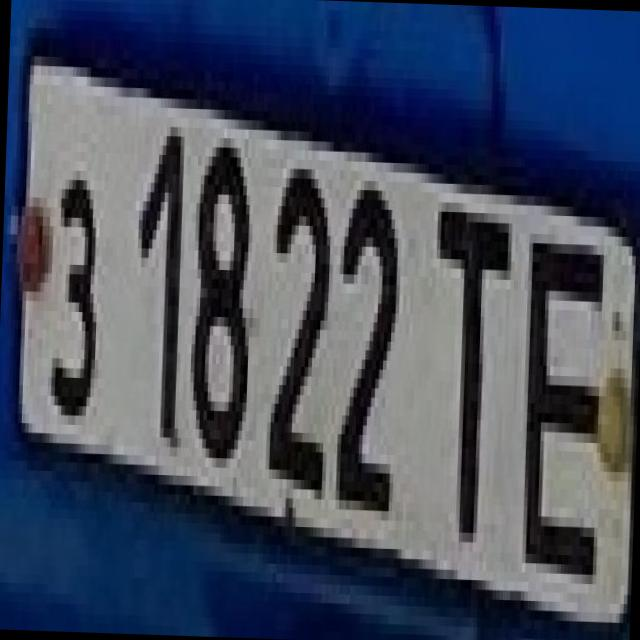1: (120, 105, 188, 438)
2: (313, 160, 411, 511), (250, 148, 340, 481)
3: (33, 140, 106, 416)
8: (170, 108, 260, 459)
E: (504, 214, 618, 575)
T: (405, 182, 517, 534)
